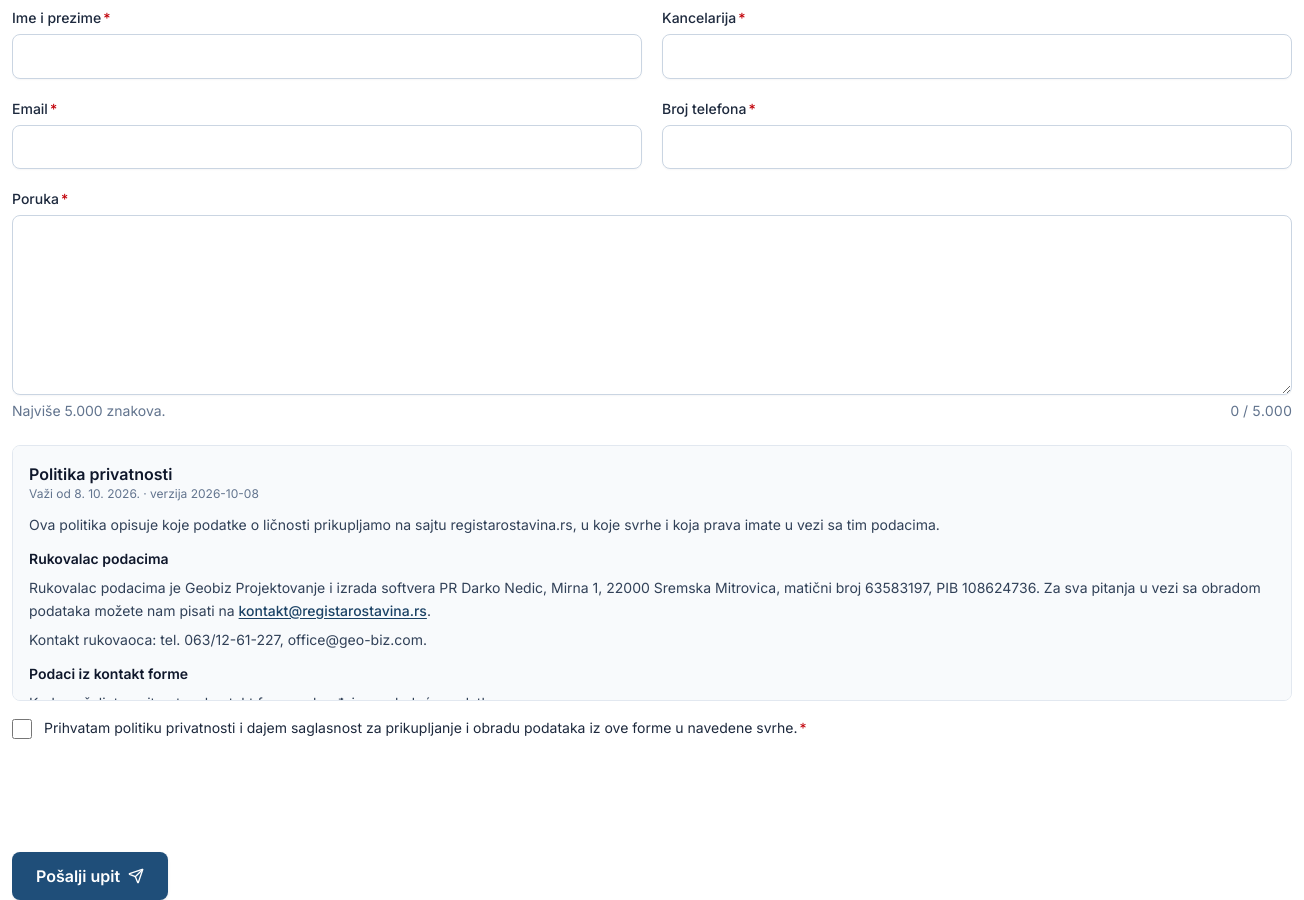
Kontakt forma – validacija › prikazuje greške za prazna obavezna polja i ne šalje zahtev
(page scrolled)
Click the button "Pošalji upit": click(90, 876) [12,852,168,899]
(page scrolled)
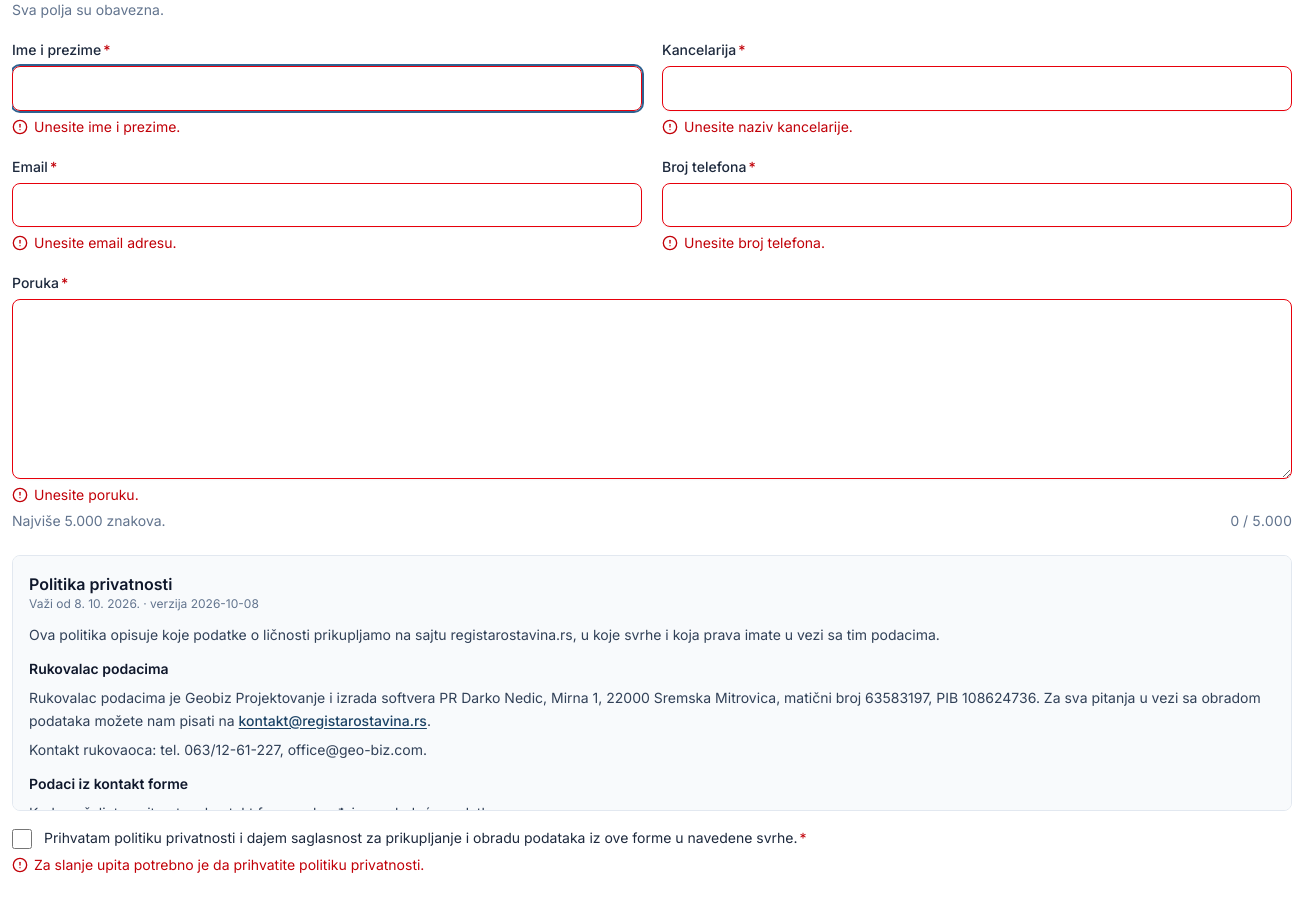
Now the text "Unesite ime i prezime." is shown, box [12,118,180,134]
Now the text "Unesite naziv kancelarije." is shown, box [662,118,853,134]
Now the text "Unesite email adresu." is shown, box [12,234,176,251]
